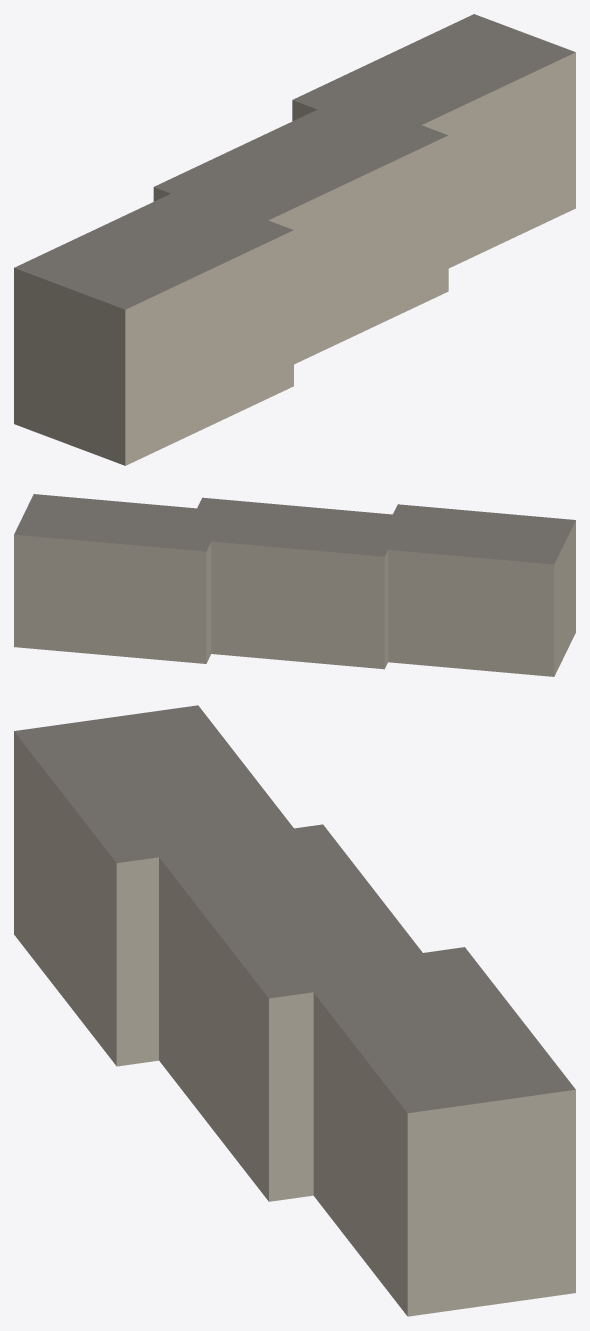
3 views of the same model, one above another, from view 1: azimuth 30°, elevation 25°; view 2: azimuth 150°, elevation 25°; view 3: azimuth 270°, elevation 25° (orthographic). The views are drawn at different scales.
Visible parts, largest first — view 1: HP-w1203860016; view 2: HP-w1203860016; view 3: HP-w1203860016.
Part boxes in pixels (bbox=[...]): HP-w1203860016: bbox=[14, 14, 575, 465]; HP-w1203860016: bbox=[14, 494, 575, 676]; HP-w1203860016: bbox=[14, 705, 575, 1316].
Bounding box in the file's own units: 51.64 × 12 × 30.06.
